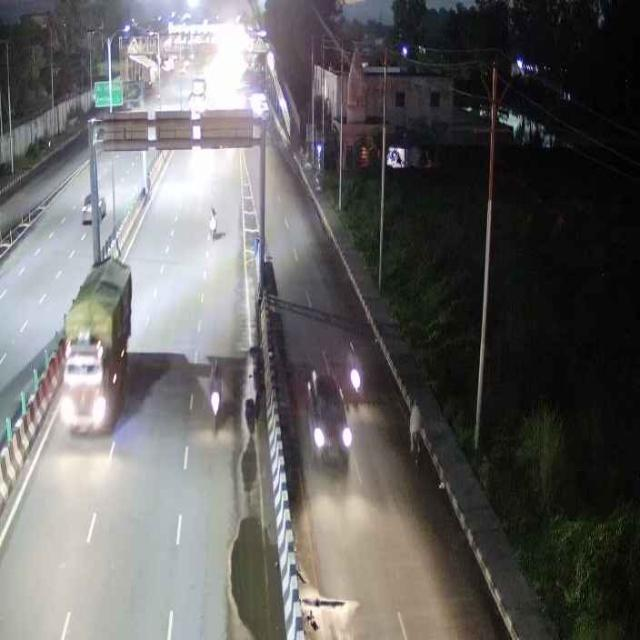car: (300, 366, 355, 468)
